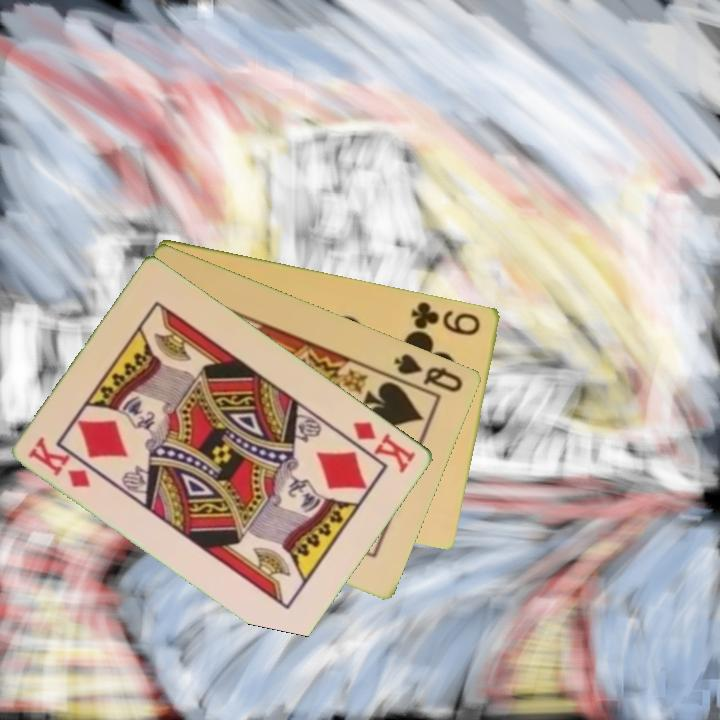9c: (408, 297, 484, 338)
Kd: (349, 417, 419, 476), (25, 432, 94, 491)
Qs: (391, 349, 467, 395)
